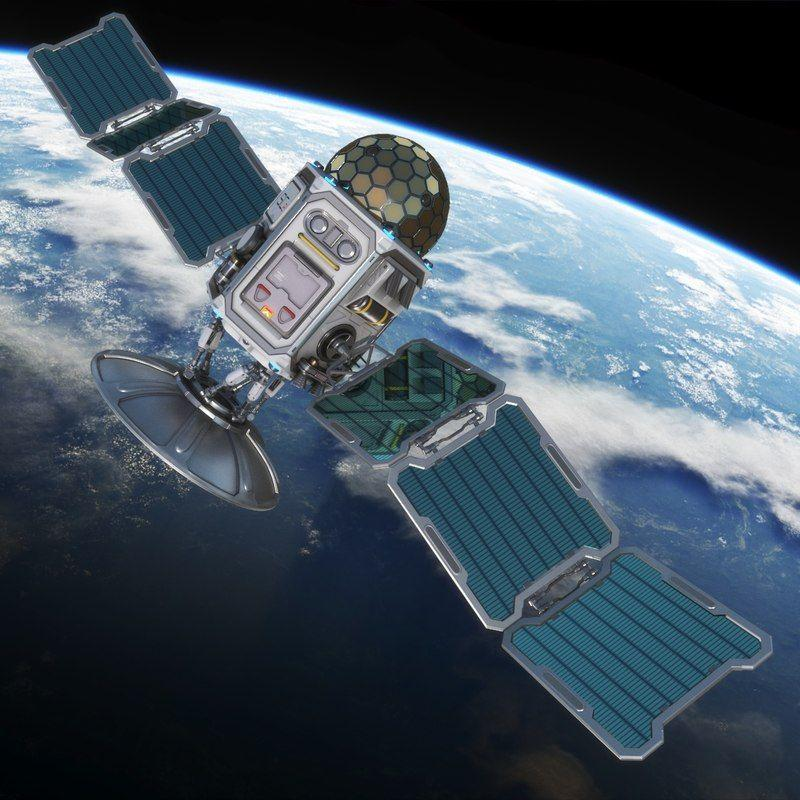antenna: (87, 346, 284, 514)
body: (214, 122, 461, 386)
solar: (306, 338, 776, 764), (26, 10, 289, 271)
thruster: (287, 370, 308, 393), (306, 380, 324, 398)
